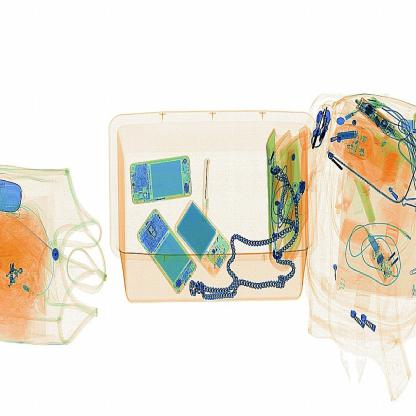pliers: (196, 149, 222, 222)
